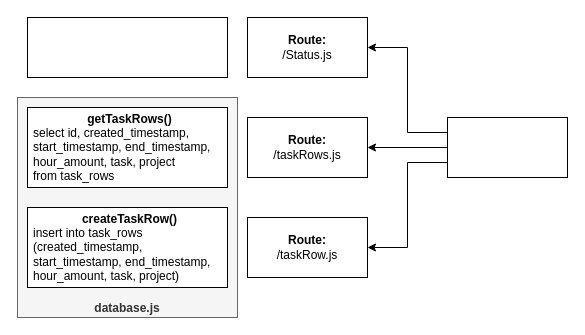
This 585x335 diagram has some shape labels left out. The centre of each missing label's shape, as x and y in pixels:
Apparently everthing is fine.: [127,47]
Server.js: [507,147]
